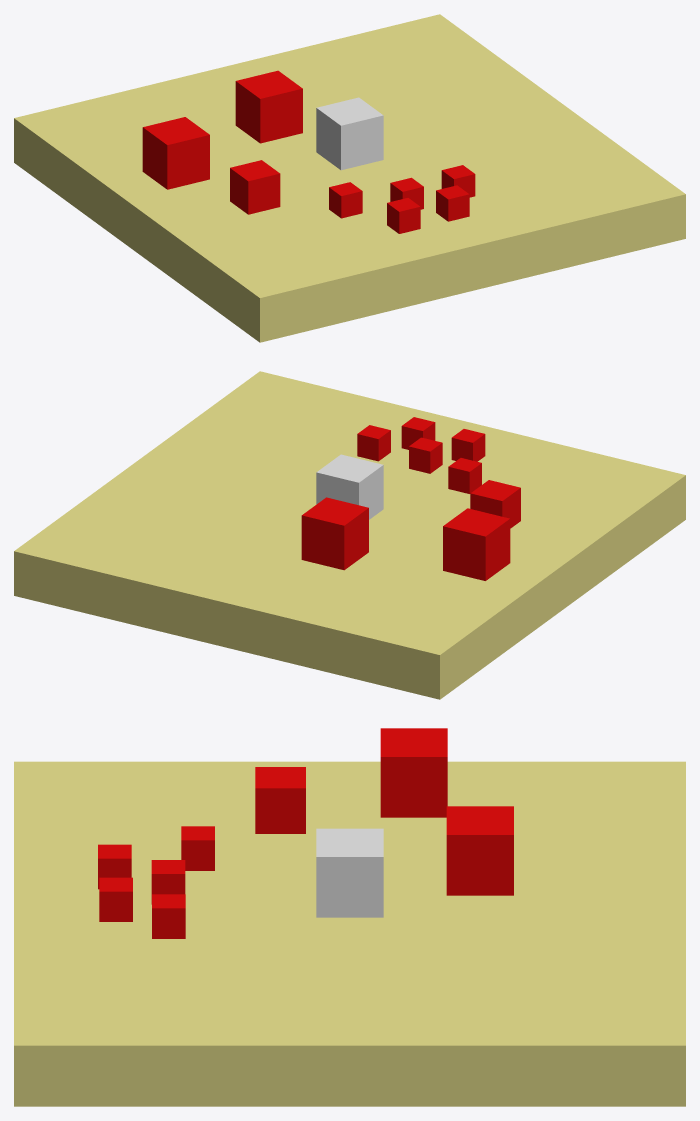
The model's file is interaction_test.glb.
The picture shows the model from 3 angles, top to bottom: view 1: azimuth 30°, elevation 25°; view 2: azimuth 150°, elevation 25°; view 3: azimuth 270°, elevation 25°; orthographic projection. The views are drawn at different scales.
Parts seen in each view (by area): view 1: Floor, Interactable, Player, Interactable.001, Interactable.002, Interactable.003, Interactable.006, Interactable.005, Interactable.007, Interactable.004; view 2: Floor, Interactable, Interactable.001, Player, Interactable.002, Interactable.007, Interactable.004, Interactable.005, Interactable.003, Interactable.006; view 3: Floor, Player, Interactable, Interactable.001, Interactable.002, Interactable.006, Interactable.007, Interactable.005, Interactable.004, Interactable.003.
Part boxes in pixels (x1,y1,x2,y2): Floor: [14, 14, 685, 342]; Interactable: [235, 70, 302, 143]; Player: [316, 97, 383, 170]; Interactable.001: [142, 117, 209, 189]; Interactable.002: [230, 160, 280, 214]; Interactable.003: [387, 198, 420, 233]; Interactable.006: [436, 185, 469, 221]; Interactable.005: [329, 182, 362, 218]; Interactable.007: [441, 165, 475, 197]; Interactable.004: [390, 177, 423, 209]; Floor: [14, 371, 685, 699]; Interactable: [301, 497, 368, 570]; Interactable.001: [443, 508, 510, 580]; Player: [316, 454, 383, 519]; Interactable.002: [470, 480, 520, 528]; Interactable.007: [357, 425, 390, 461]; Interactable.004: [409, 437, 442, 473]; Interactable.005: [448, 458, 481, 493]; Interactable.003: [451, 429, 485, 461]; Interactable.006: [401, 417, 435, 449]; Floor: [14, 761, 685, 1106]; Player: [316, 828, 383, 917]; Interactable: [446, 806, 513, 895]; Interactable.001: [380, 728, 447, 817]; Interactable.002: [255, 767, 305, 833]; Interactable.006: [99, 877, 132, 921]; Interactable.007: [152, 894, 185, 938]; Interactable.005: [181, 826, 214, 870]; Interactable.004: [151, 860, 185, 904]; Interactable.003: [98, 844, 131, 889].
Bounding box in the file's own units: 10 × 2 × 10.
